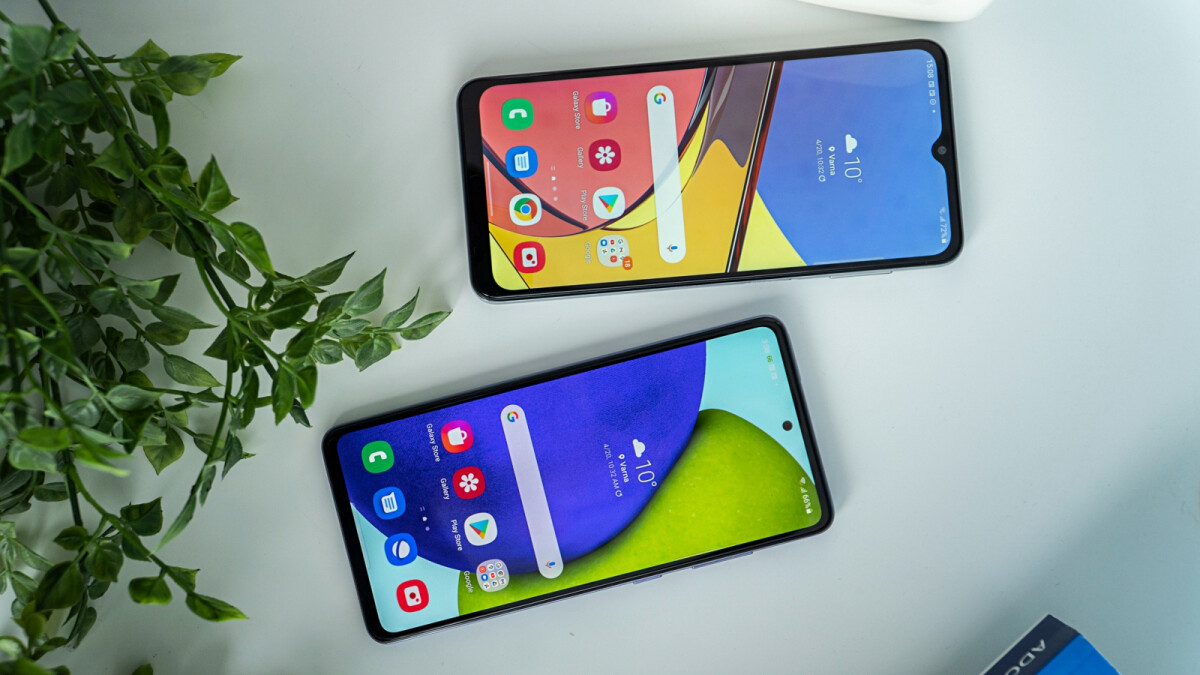phones: (319, 312, 850, 642), (446, 34, 990, 291)
